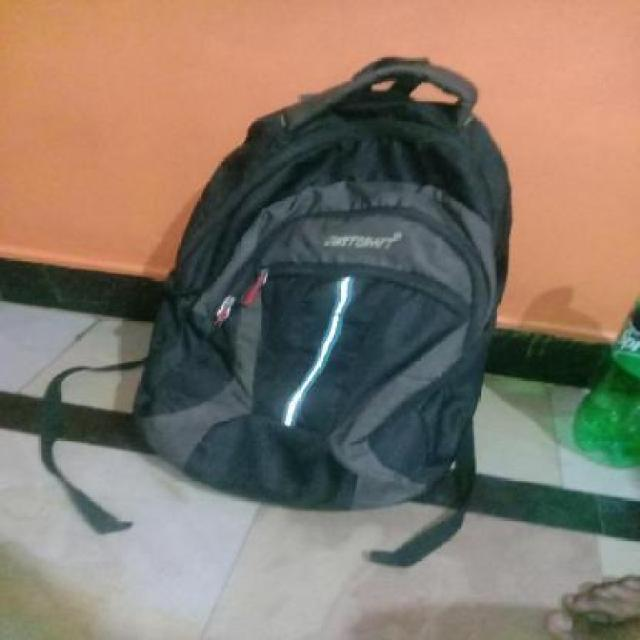backpack: (125, 52, 520, 518)
